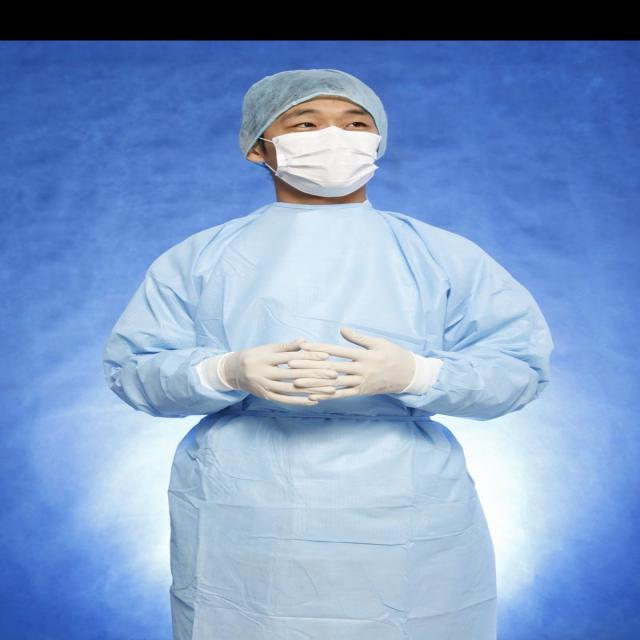mask: (266, 88, 378, 196)
